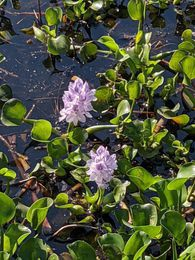water_hyacinth: (0, 83, 195, 260)
